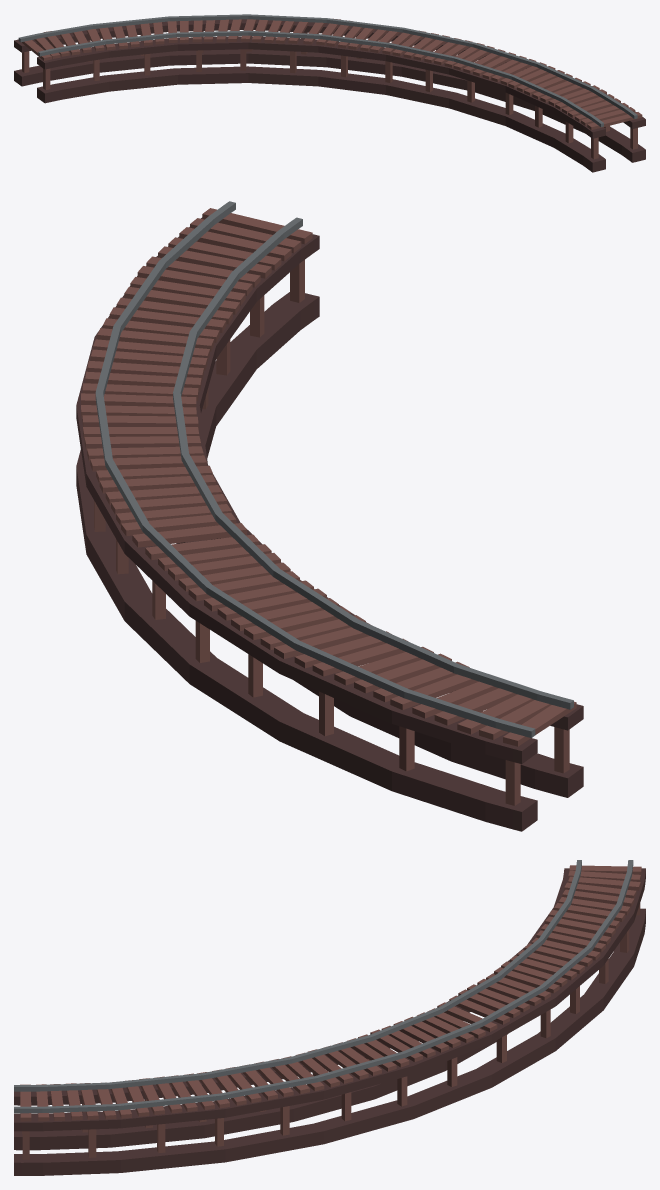
The model's file is DarkRoseWoodMechLarge1_5GaugeLeftTurn1.fbx.
The picture shows the model from 3 angles, top to bottom: view 1: azimuth 30°, elevation 25°; view 2: azimuth 150°, elevation 25°; view 3: azimuth 270°, elevation 25°; orthographic projection. The views are drawn at different scales.
Visible parts, largest first — view 1: DarkRoseWoodMechLarge1_5GaugeLeftTurn1; view 2: DarkRoseWoodMechLarge1_5GaugeLeftTurn1; view 3: DarkRoseWoodMechLarge1_5GaugeLeftTurn1.
Boxes of the visible parts, box(x1,y1,x2,y2) form: DarkRoseWoodMechLarge1_5GaugeLeftTurn1: box(14, 14, 645, 172); DarkRoseWoodMechLarge1_5GaugeLeftTurn1: box(76, 201, 583, 831); DarkRoseWoodMechLarge1_5GaugeLeftTurn1: box(14, 860, 645, 1175).
Size of the model in its own units: 1950 by 221 by 2050.
